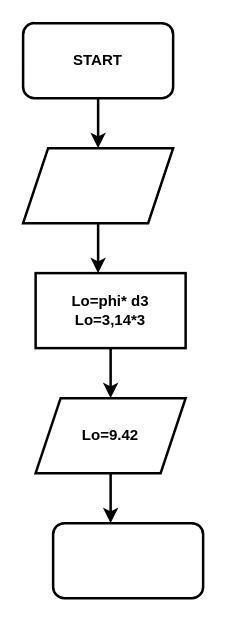
Some shapes in this 225 by 620 pixel diagram are drawn without their labels. The shapes that lost their labels are listed below. From the top down, each one's centre as x and y in pixels, then its label:
At (x=97, y=185): "LO var=phi=3,14 d3".
At (x=127, y=560): "END".
